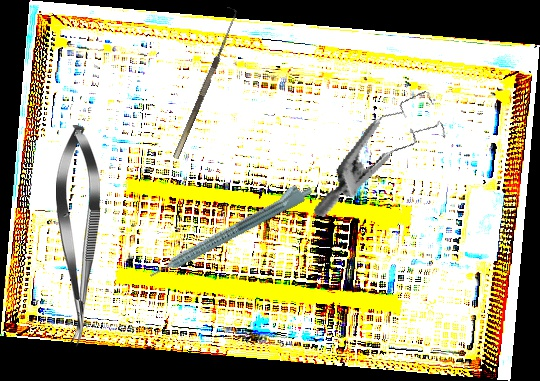Handpiece: (143, 177, 315, 282)
Hook Surgical: (165, 6, 241, 160)
Micro Scissor: (56, 125, 100, 347)
Speculum: (313, 70, 456, 244)
